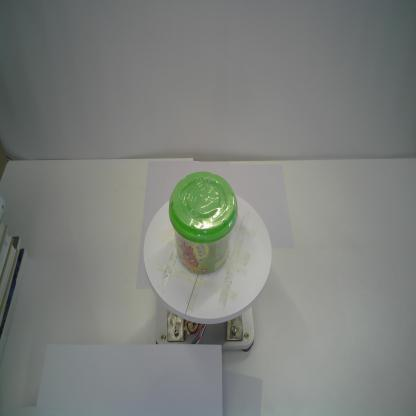Instant Drink: (168, 170, 240, 276)
